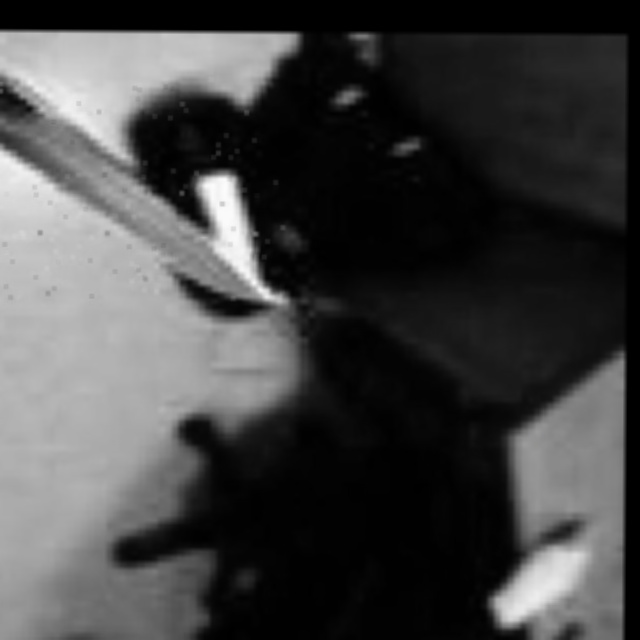Sharp-Object: (0, 76, 285, 300)
